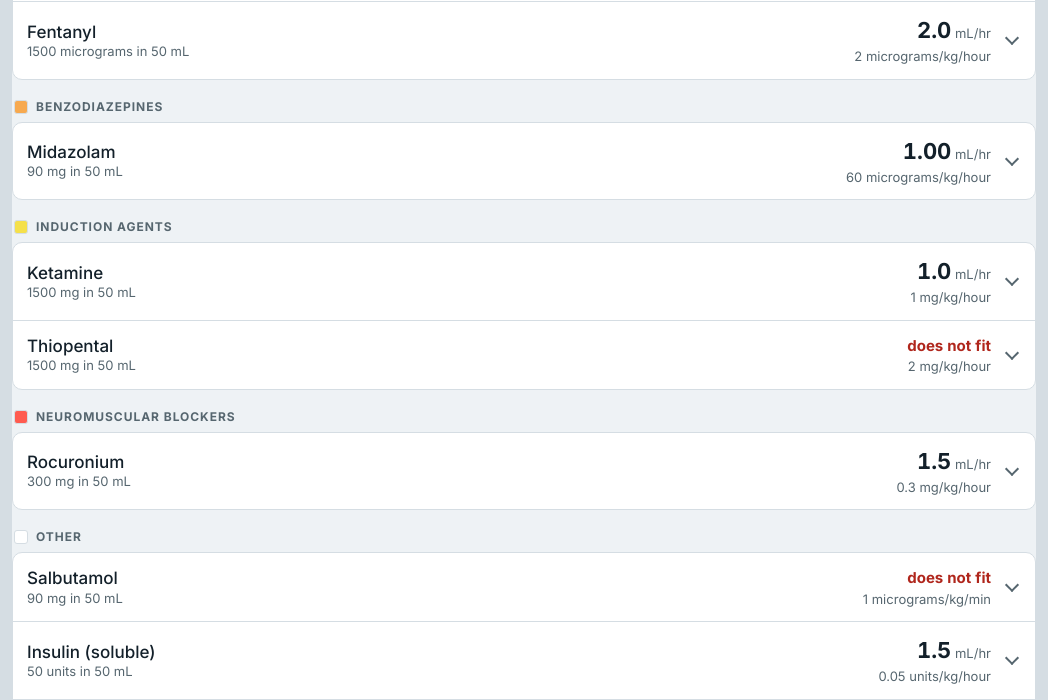
Test: rows › says when the syringe does not fit
(page scrolled)
Click the button "Thiopental 1500 mg in 50 mL does not fit 2 mg/kg/hour" at (70, 346), box [13, 320, 1035, 388]
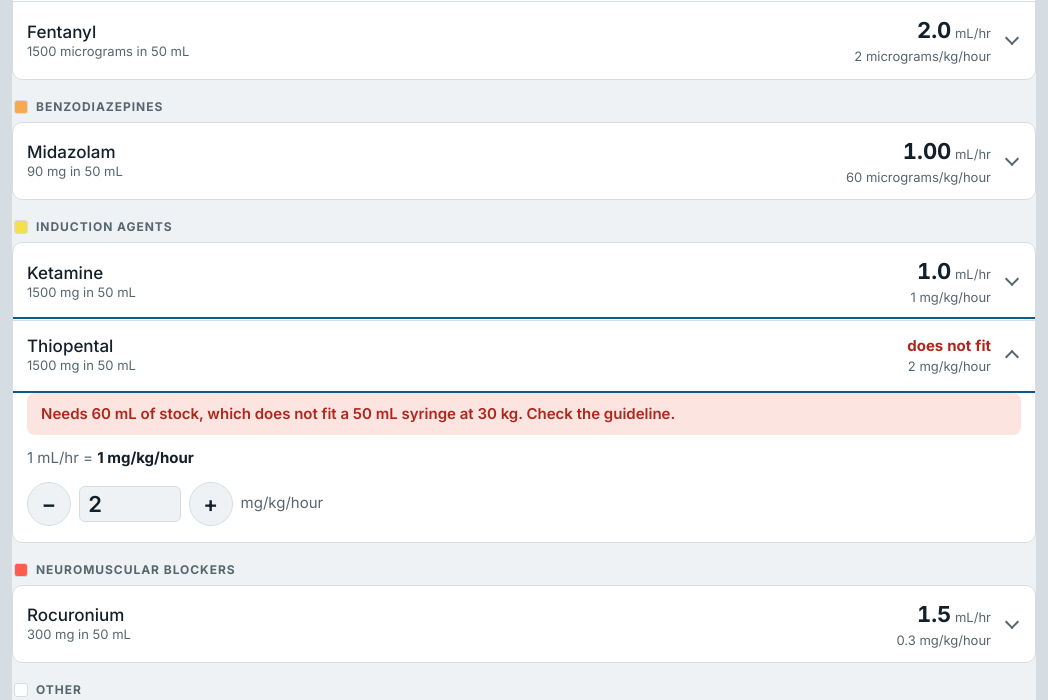
Now the text "Needs 60 mL of stock, which does not fit a 50 mL syringe at 30 kg. Check the guideline." is shown, box [27, 392, 1021, 435]
